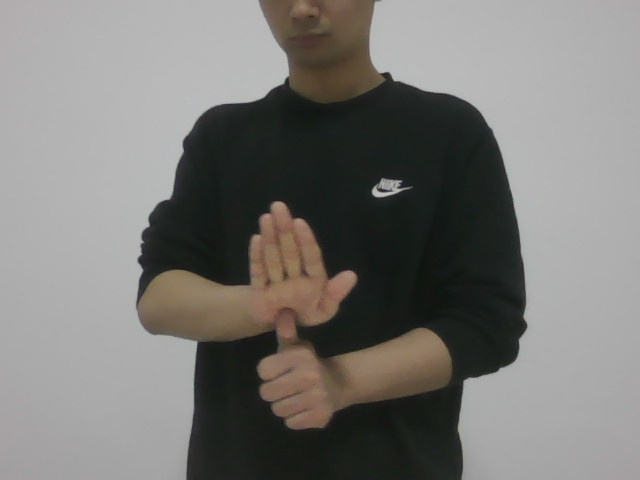love: (218, 192, 361, 437)
